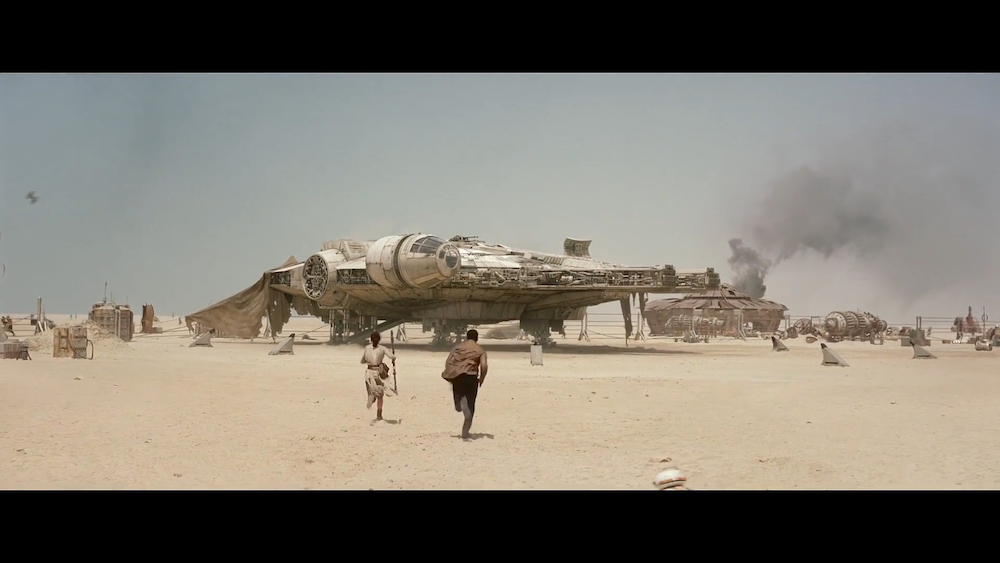Millennium Falcon: (262, 235, 719, 321)
Tie Fighter: (27, 191, 39, 207)
